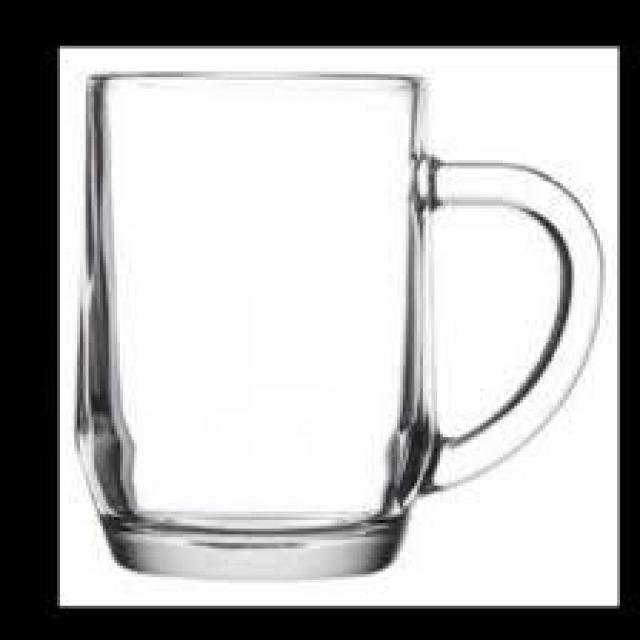non-organic waste: (74, 73, 609, 578)
